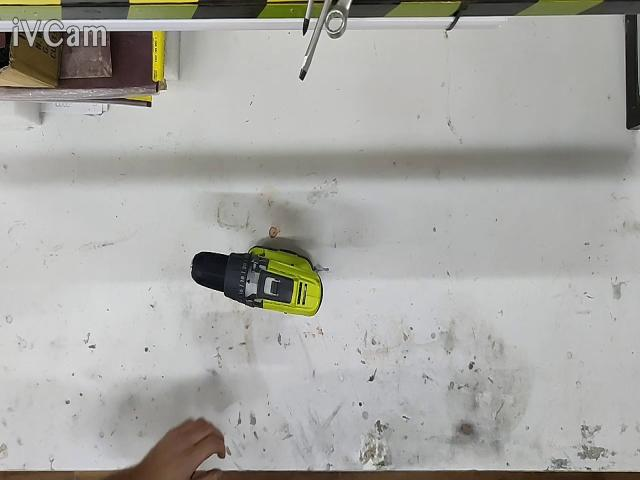Drill: (191, 247, 322, 316)
Hand: (109, 418, 225, 480)
Wrench: (325, 0, 352, 38)
